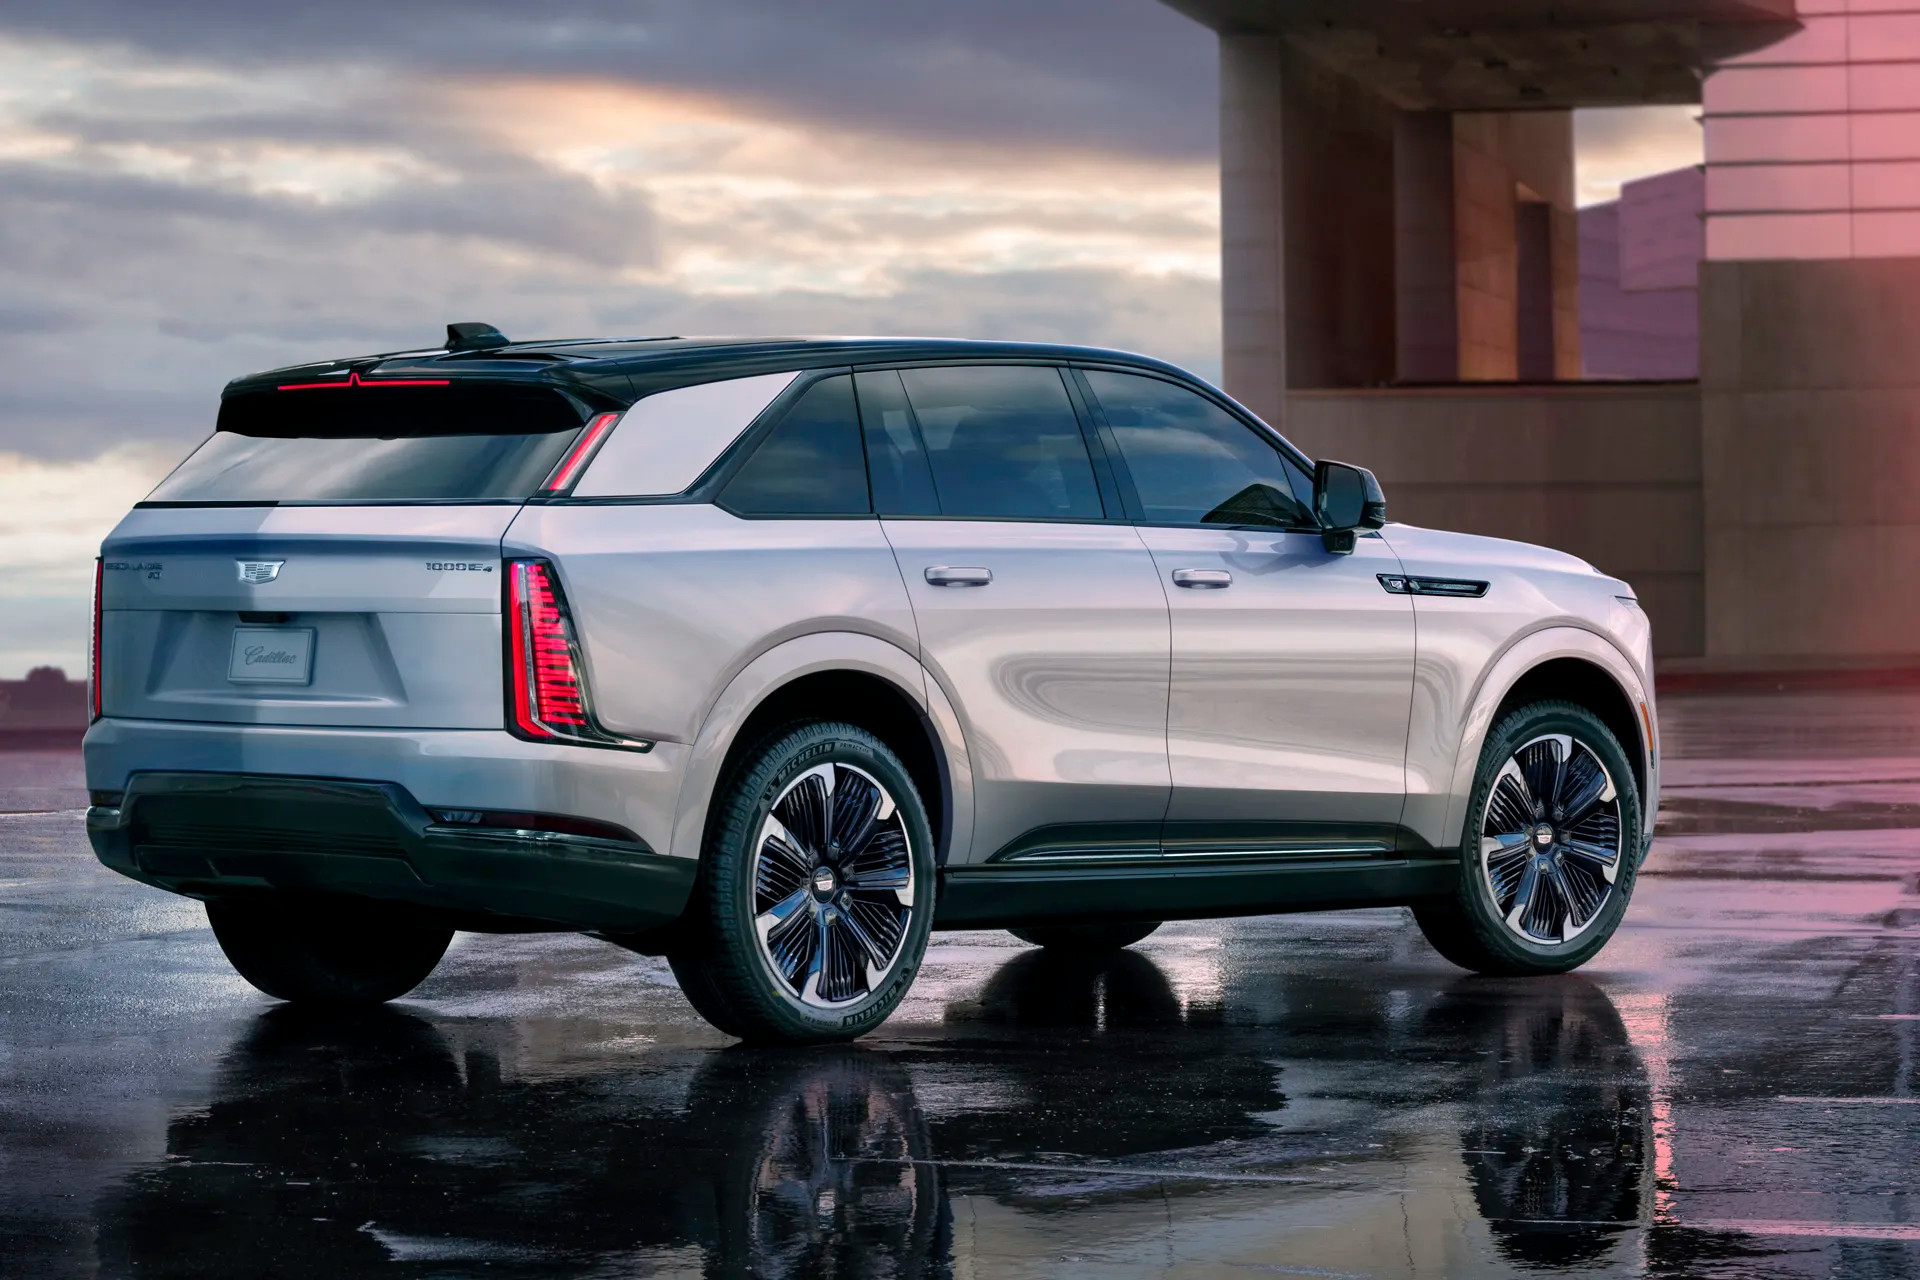car: (76, 316, 1669, 1051)
